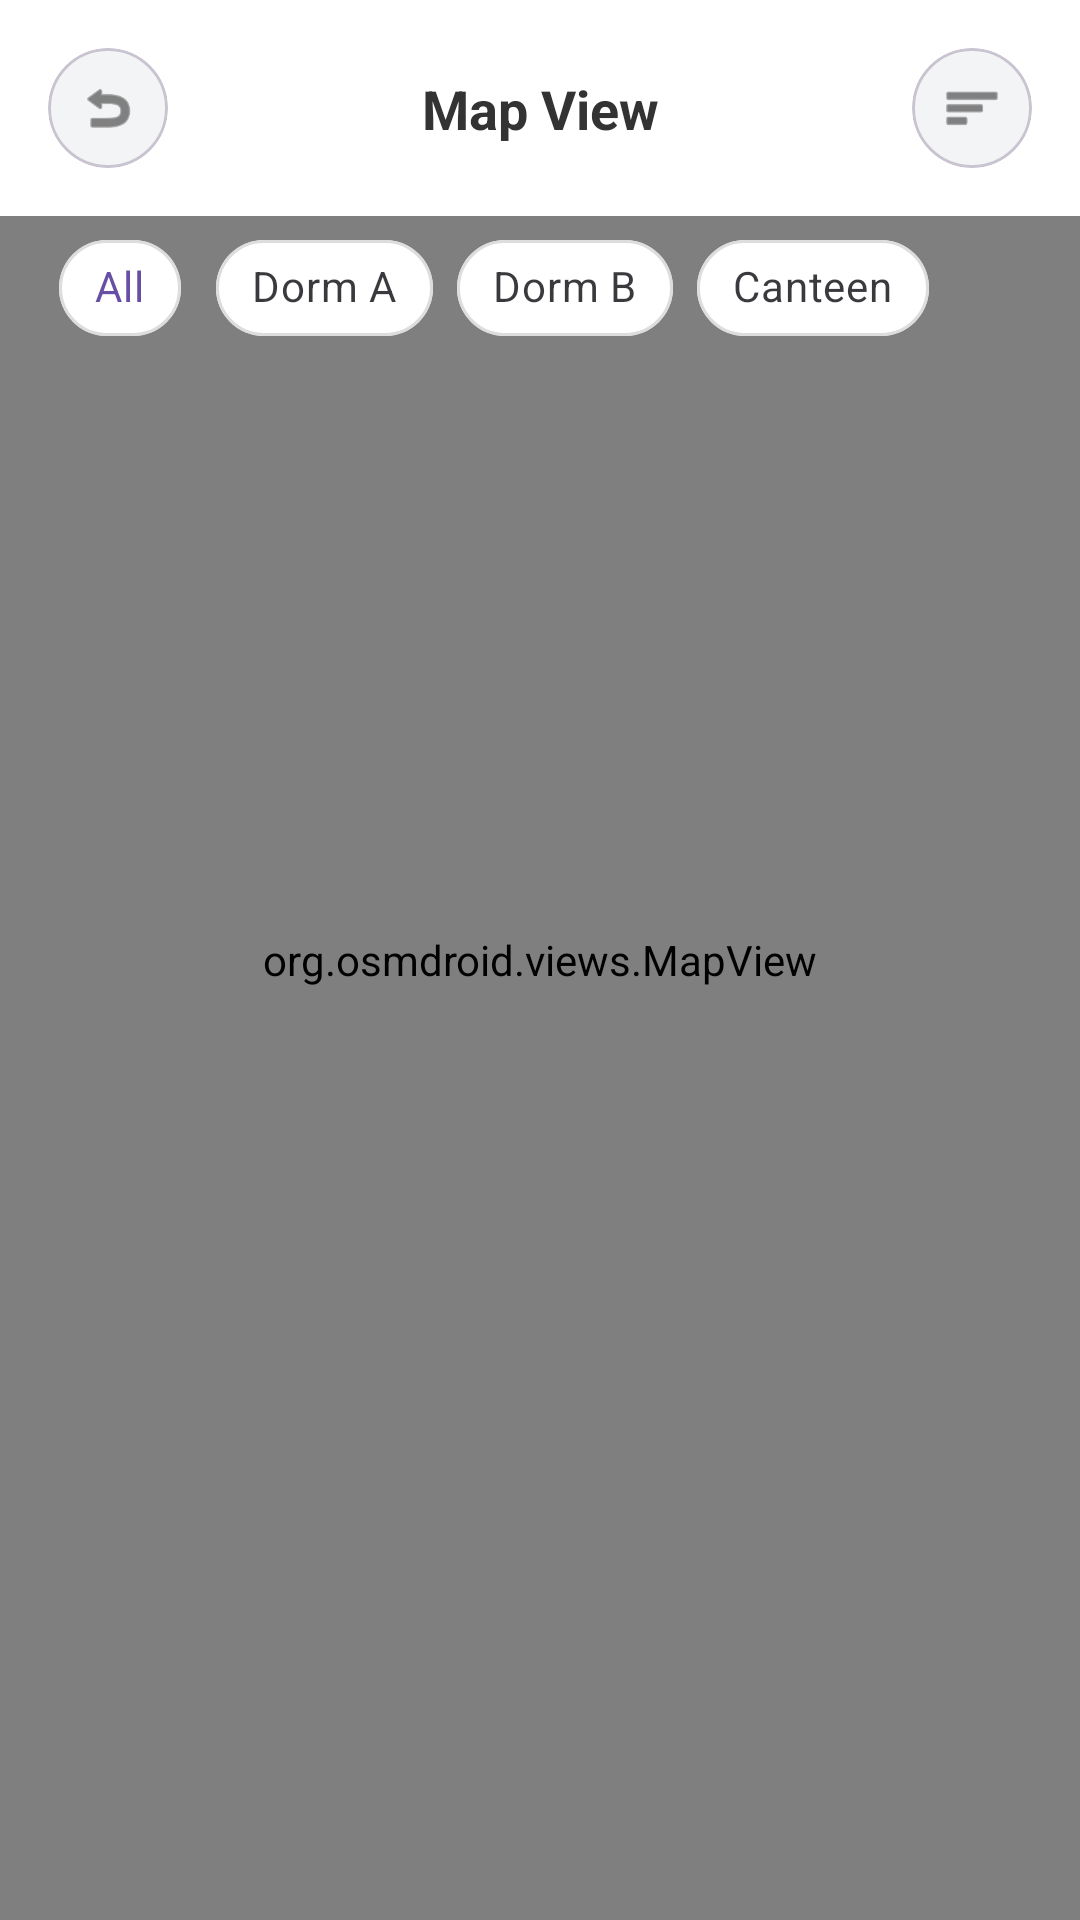

Icons on this 1080px x 1920px Android screen, each with the point to tap as (x,y):
revert: (108,108)
sort by size: (972,108)
